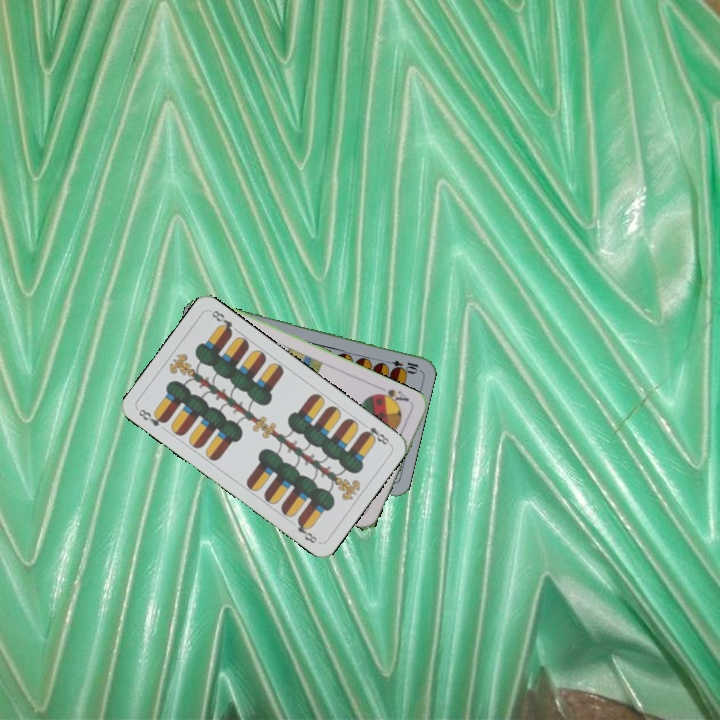E10: (380, 356, 421, 374)
E8: (359, 419, 393, 448), (134, 405, 170, 429)
SA: (373, 383, 412, 408)
